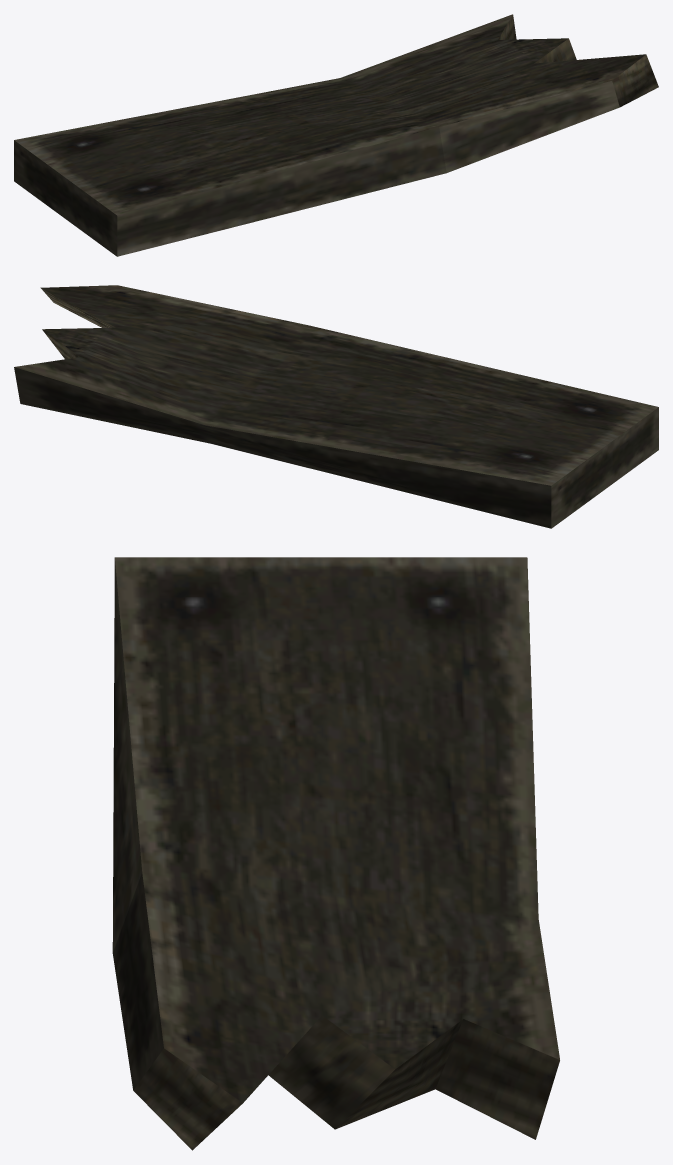
File: plank_2.5m_broken.dae
The picture shows the model from 3 angles, top to bottom: view 1: azimuth 30°, elevation 25°; view 2: azimuth 150°, elevation 25°; view 3: azimuth 270°, elevation 25°; orthographic projection. The views are drawn at different scales.
Parts seen in each view (by area): view 1: polySurface34; view 2: polySurface34; view 3: polySurface34.
Part boxes in pixels (<box>): polySurface34: <box>14,14,658,256</box>; polySurface34: <box>14,285,658,528</box>; polySurface34: <box>112,557,559,1150</box>.
Bounding box in the file's own units: 1.4 × 0.1115 × 0.4822.
